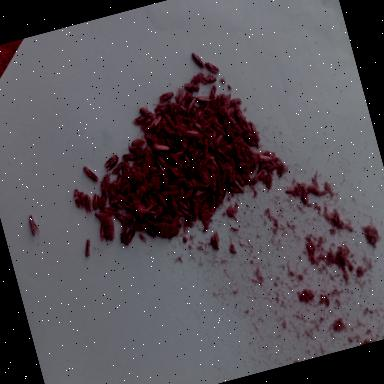pbw: (102, 152, 122, 170), (83, 164, 100, 184), (28, 213, 42, 237), (153, 210, 173, 226), (156, 151, 170, 172), (172, 100, 188, 118), (122, 228, 138, 246), (206, 84, 220, 104), (212, 190, 228, 207), (152, 116, 168, 133), (112, 174, 127, 192), (95, 191, 110, 209), (192, 51, 206, 70), (208, 170, 220, 192), (197, 152, 213, 168), (184, 163, 200, 179), (152, 140, 170, 154), (163, 112, 177, 130), (207, 190, 218, 212), (205, 60, 220, 76), (72, 188, 84, 208), (82, 192, 94, 212), (189, 71, 206, 85), (184, 80, 201, 94), (158, 90, 176, 103), (170, 150, 183, 168), (156, 191, 168, 210), (185, 97, 200, 112), (98, 174, 112, 190), (110, 161, 126, 175), (139, 106, 155, 120), (251, 168, 267, 182), (170, 214, 184, 230), (150, 204, 166, 218), (144, 222, 157, 239), (98, 224, 109, 244), (167, 100, 178, 120), (82, 238, 94, 256), (175, 86, 187, 104), (90, 192, 102, 210), (218, 173, 230, 191), (78, 191, 89, 210), (179, 204, 192, 220), (201, 134, 212, 152), (116, 190, 130, 204), (150, 114, 165, 127), (168, 162, 180, 178), (118, 226, 130, 242), (201, 74, 217, 86), (139, 118, 155, 130), (168, 135, 181, 149), (160, 172, 170, 190), (235, 170, 246, 186), (154, 104, 170, 115), (215, 118, 226, 134), (132, 220, 148, 231), (196, 92, 210, 104), (198, 202, 210, 216), (122, 151, 136, 163), (213, 122, 225, 136), (186, 128, 200, 140), (132, 114, 147, 125), (130, 136, 146, 146), (162, 186, 178, 196), (163, 124, 176, 136), (145, 132, 156, 146), (140, 216, 154, 227), (180, 136, 191, 150), (141, 163, 151, 178), (170, 176, 186, 185), (178, 199, 190, 211), (220, 144, 234, 154), (234, 177, 244, 191), (220, 148, 230, 162), (212, 233, 220, 250), (200, 192, 213, 202), (197, 180, 210, 190), (142, 124, 155, 134), (194, 120, 204, 133), (190, 198, 198, 214), (157, 158, 166, 172), (200, 211, 214, 220), (258, 153, 272, 162), (171, 200, 180, 214), (185, 187, 196, 198), (200, 104, 211, 115), (236, 160, 248, 170), (216, 139, 228, 149), (124, 159, 132, 174), (102, 206, 114, 216), (192, 146, 202, 158), (230, 97, 243, 106), (194, 188, 208, 196), (212, 157, 220, 171), (218, 158, 226, 172), (148, 145, 156, 159), (179, 112, 190, 122), (216, 152, 225, 164), (207, 140, 216, 152), (151, 170, 164, 178), (224, 92, 234, 102), (116, 200, 126, 210), (230, 184, 240, 194), (142, 195, 150, 207), (173, 150, 185, 158), (121, 163, 128, 176), (251, 123, 258, 136), (128, 144, 137, 154), (95, 210, 106, 218), (135, 156, 145, 164), (184, 152, 190, 164), (186, 196, 192, 207), (110, 199, 119, 205), (178, 148, 184, 152)
